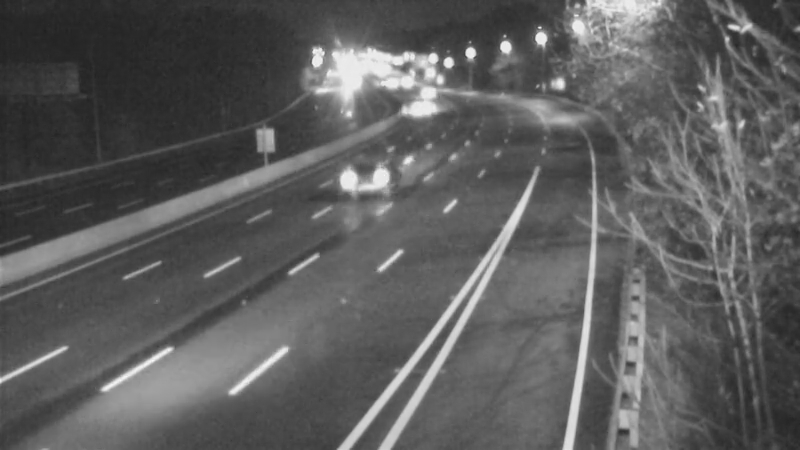vehicle: (350, 132, 430, 212), (403, 66, 453, 116), (404, 73, 454, 123)
